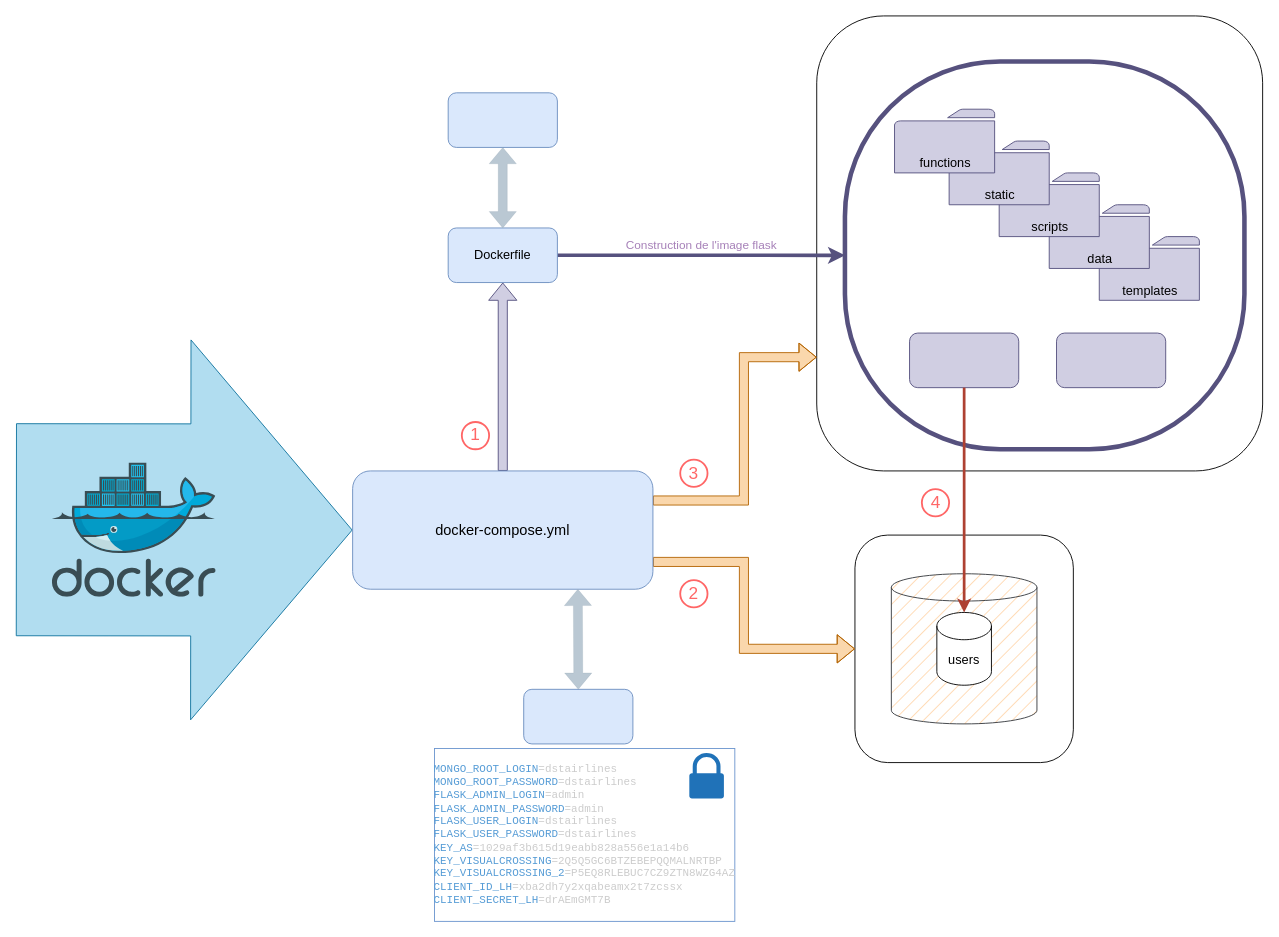
The diagram is 1279 pixels wide and 937 high, and some of its shapes have lost their labels. The shapes that lost their labels are listed below. From the top down, each one's box as (x1, y1, x2, y2) in pixels, then its label:
(447, 92, 557, 147): requirements.txt
(816, 15, 1263, 471): Flask
(909, 332, 1019, 388): init_db.py
(1056, 332, 1166, 388): app.py
(890, 573, 1037, 724): app_data
(854, 534, 1073, 763): MongoDB
(523, 688, 633, 744): .env
